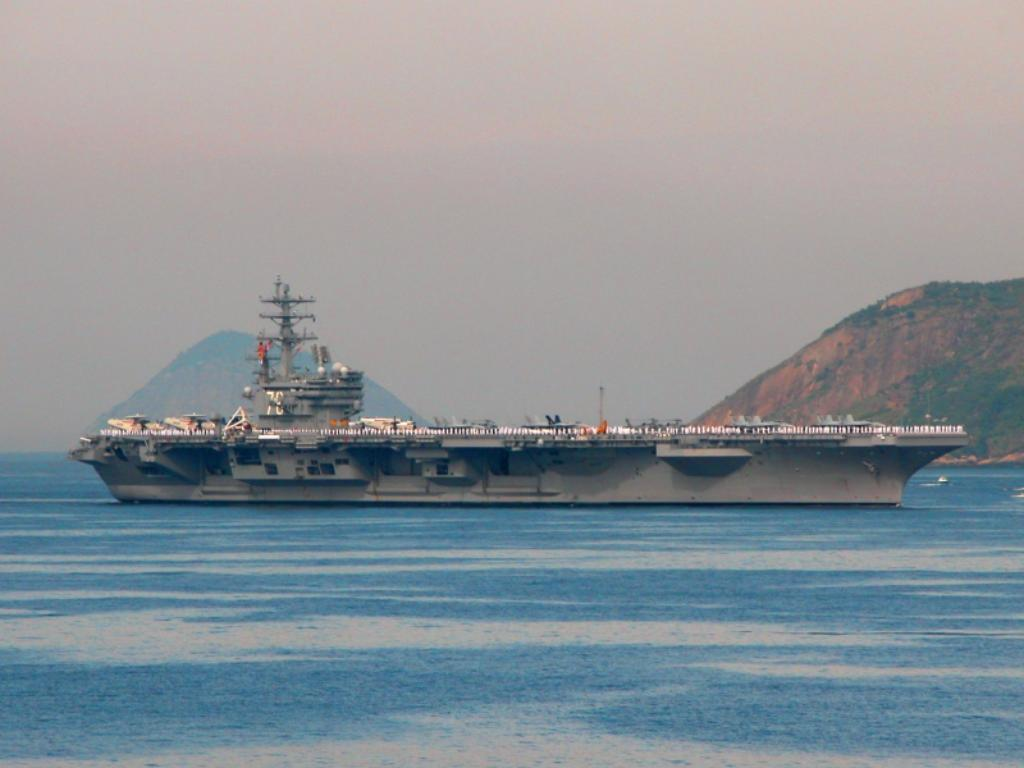Warship: (73, 268, 975, 510)
